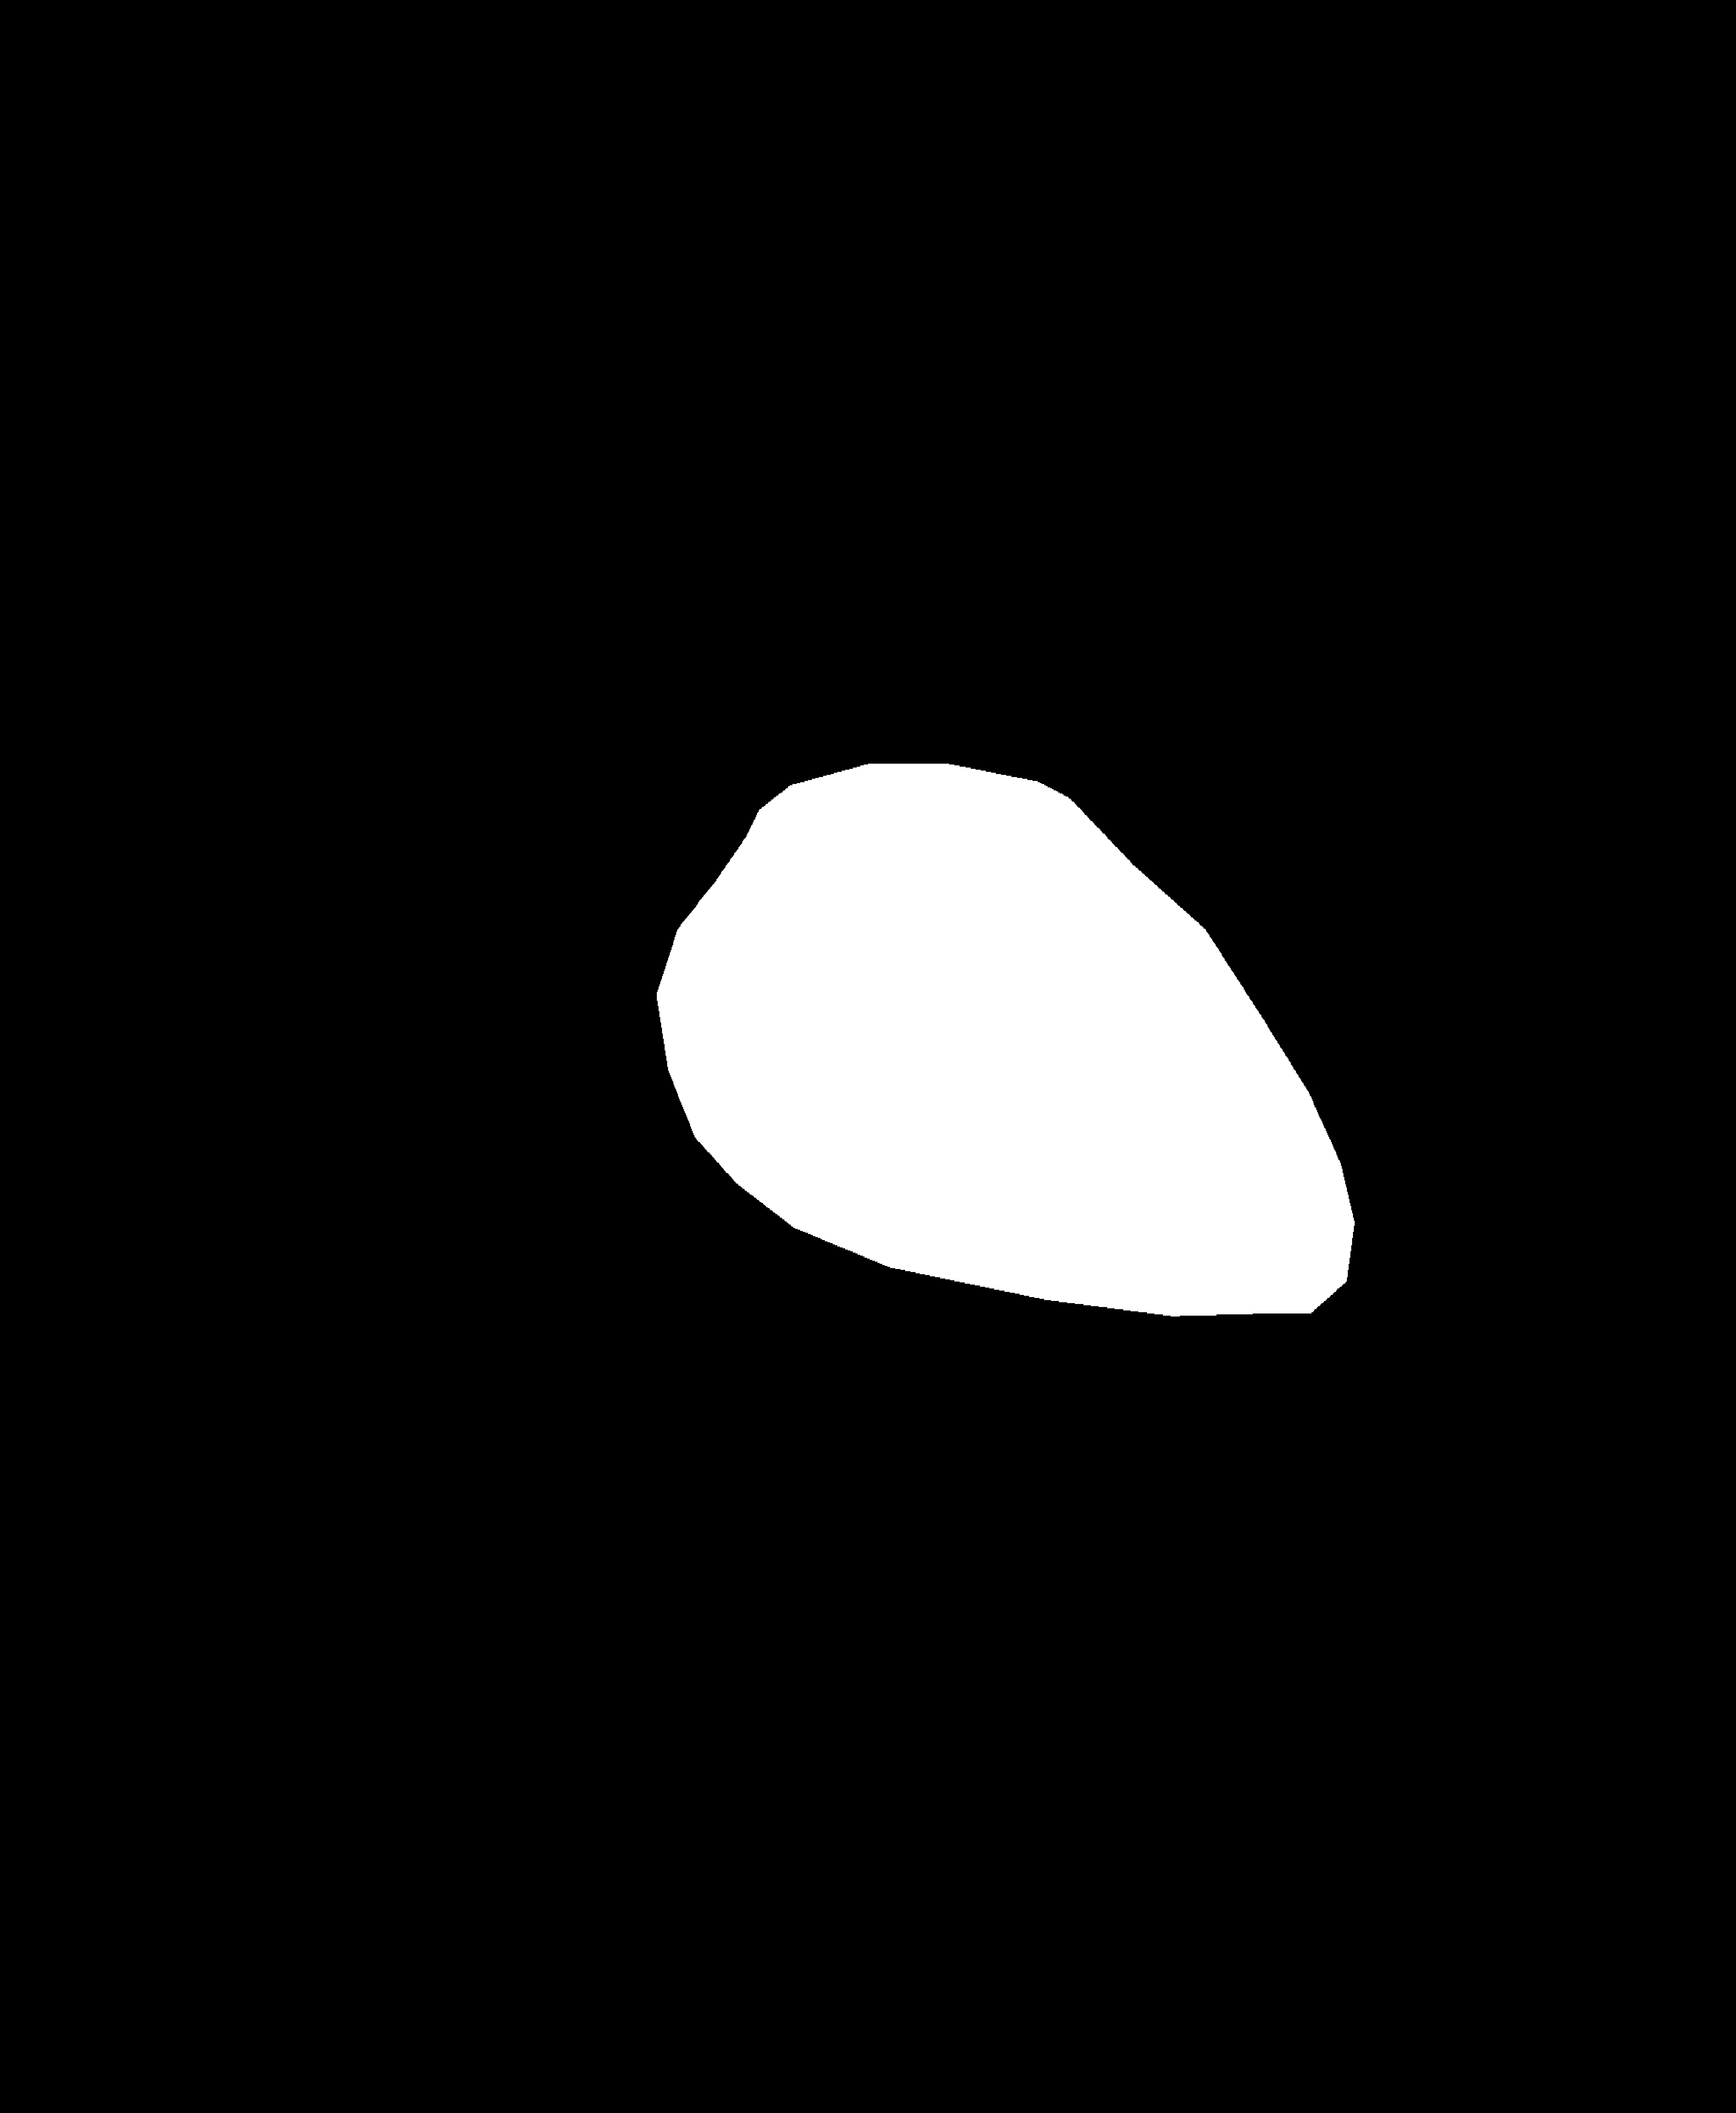heart: (653, 853, 1395, 1332)
left_lung: (144, 254, 806, 1486)
right_lung: (899, 253, 1559, 1485)
